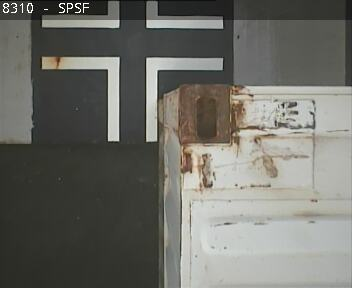groundmarker_1: (41, 56, 223, 141), (41, 1, 223, 28)
